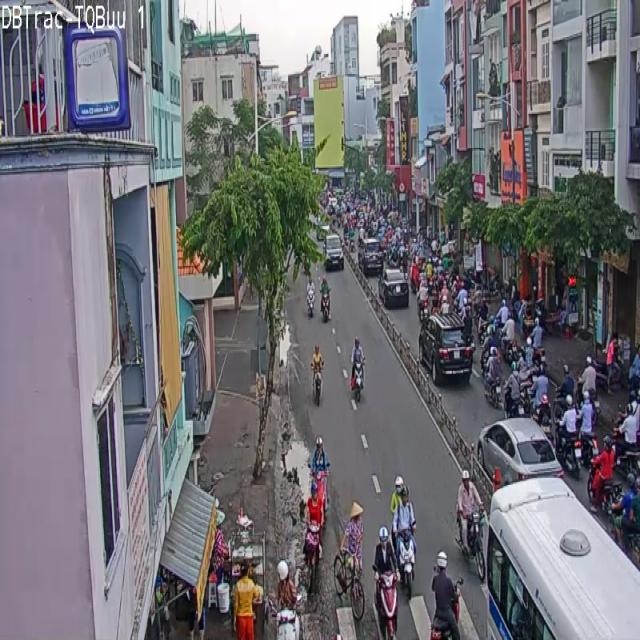car: (390, 478, 416, 589), (373, 526, 396, 639)
traffic-light: (476, 418, 562, 482), (418, 311, 474, 383)
